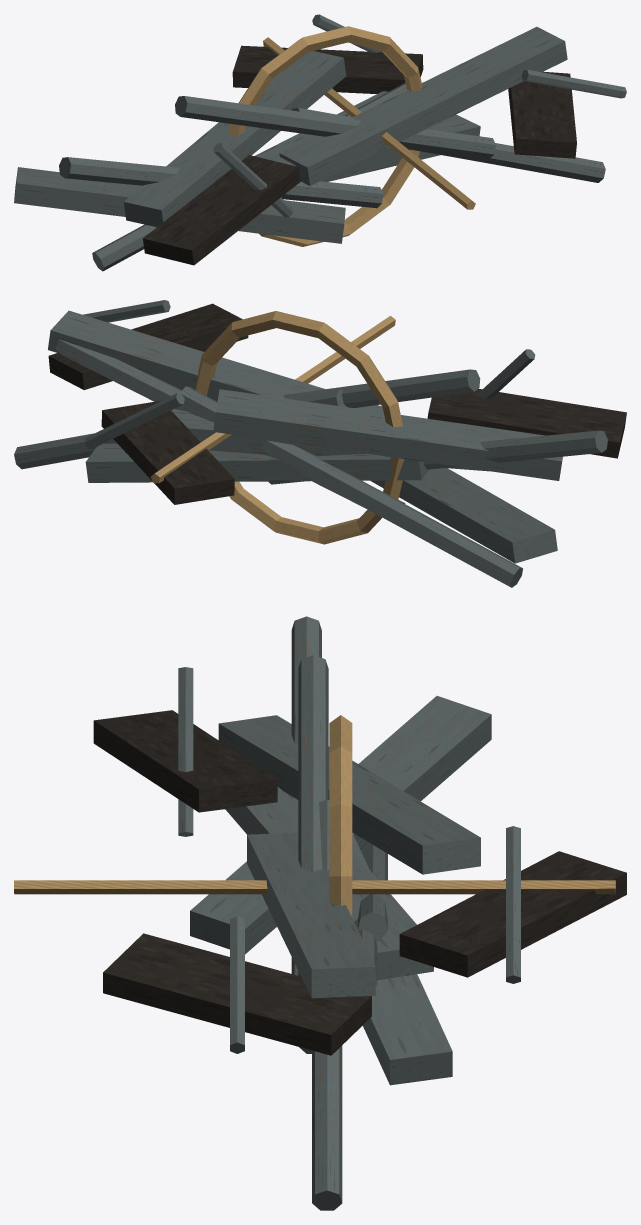
File: pr-012_scrap_metal_bundle__medium.obj
The picture shows the model from 3 angles, top to bottom: view 1: azimuth 30°, elevation 25°; view 2: azimuth 150°, elevation 25°; view 3: azimuth 270°, elevation 25°; orthographic projection. The views are drawn at different scales.
Parts seen in each view (by area): view 1: pr-012_scrap_metal_bundle__medium; view 2: pr-012_scrap_metal_bundle__medium; view 3: pr-012_scrap_metal_bundle__medium.
Part boxes in pixels (box(x1,y1,x2,y2)): pr-012_scrap_metal_bundle__medium: box(14, 14, 626, 271); pr-012_scrap_metal_bundle__medium: box(14, 300, 626, 587); pr-012_scrap_metal_bundle__medium: box(14, 616, 626, 1210).
Bounding box in the file's own units: 1.04 × 0.3803 × 0.7109.
3 materials, 3 textured.
